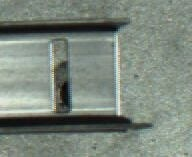40ngpress: (21, 19, 130, 128)
